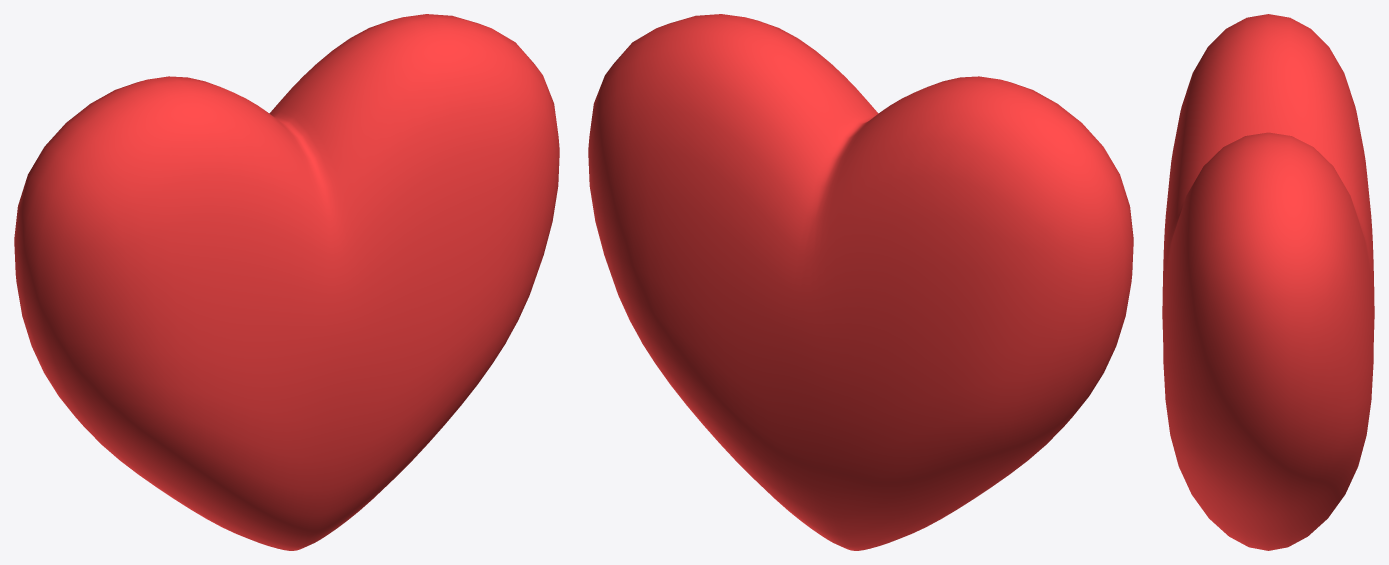
File: Heart_anim.gltf
The picture shows the model from 3 angles, left to right: view 1: azimuth 30°, elevation 25°; view 2: azimuth 150°, elevation 25°; view 3: azimuth 270°, elevation 25°; orthographic projection. The views are drawn at different scales.
Parts seen in each view (by area): view 1: Heart; view 2: Heart; view 3: Heart.
Boxes of the visible parts, <box> form: Heart: <box>14,14,559,550</box>; Heart: <box>588,14,1133,550</box>; Heart: <box>1162,14,1374,550</box>.
Size of the model in its own units: 2 by 1.79 by 0.7427.
